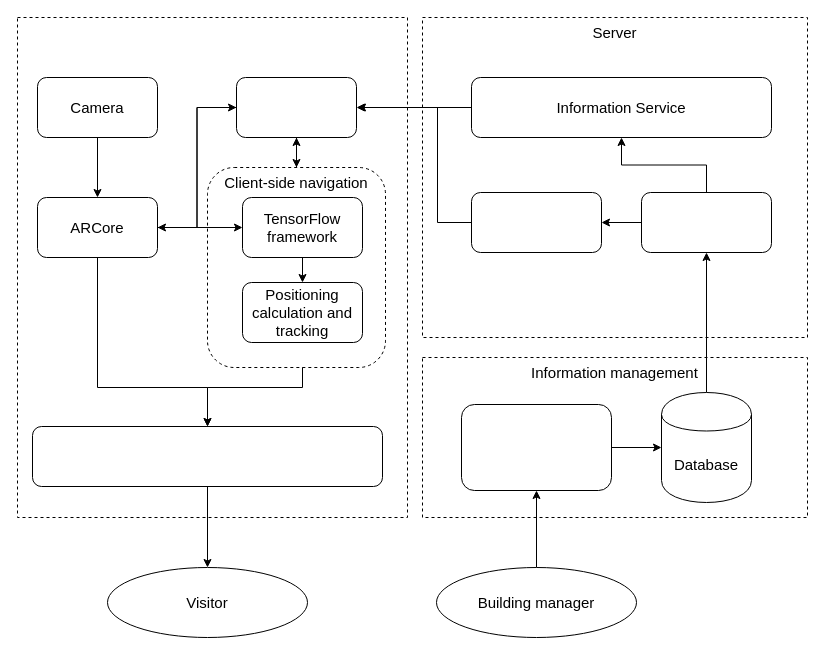
The diagram is 825 pixels wide and 655 high, and some of its shapes have lost their labels. The box of each missing label's shape, as (x1, y1, x2, y2) in pixels:
Data retrievial: (640, 192, 772, 252)
GUI: (32, 426, 382, 486)
Management entry: (460, 404, 612, 490)
Mobile APP: (16, 16, 408, 518)
Network: (236, 76, 356, 138)
Path searching: (470, 192, 602, 252)
